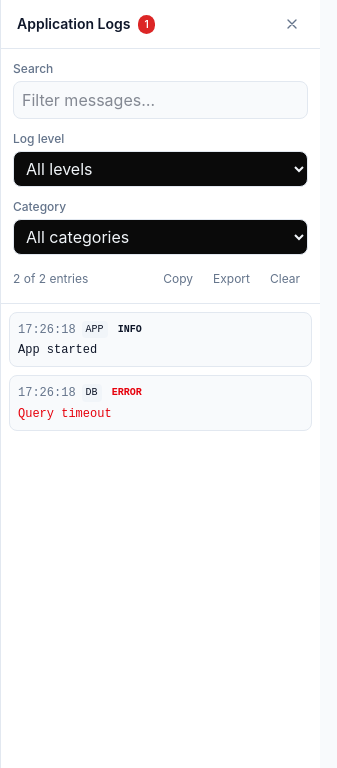
Test case: LogPanel › filters by search query
The width and height of the screenshot is (337, 768).
In the search field with test id "log-search": (160, 100) left=13, top=81, right=308, bottom=119, type "timeout"
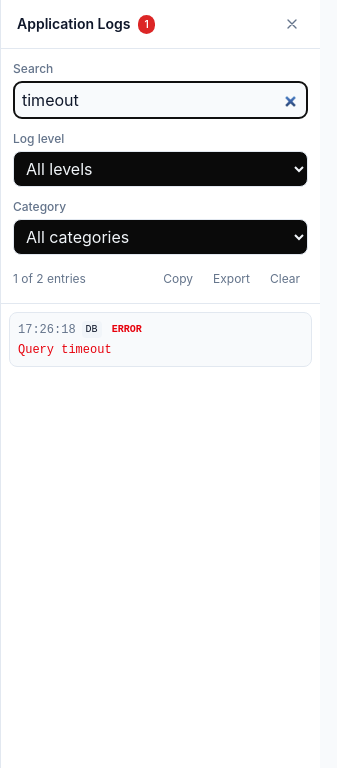
Expected: the text "Query timeout" is shown, left=18, top=343, right=112, bottom=357
Expected: the text "App started" is gone
